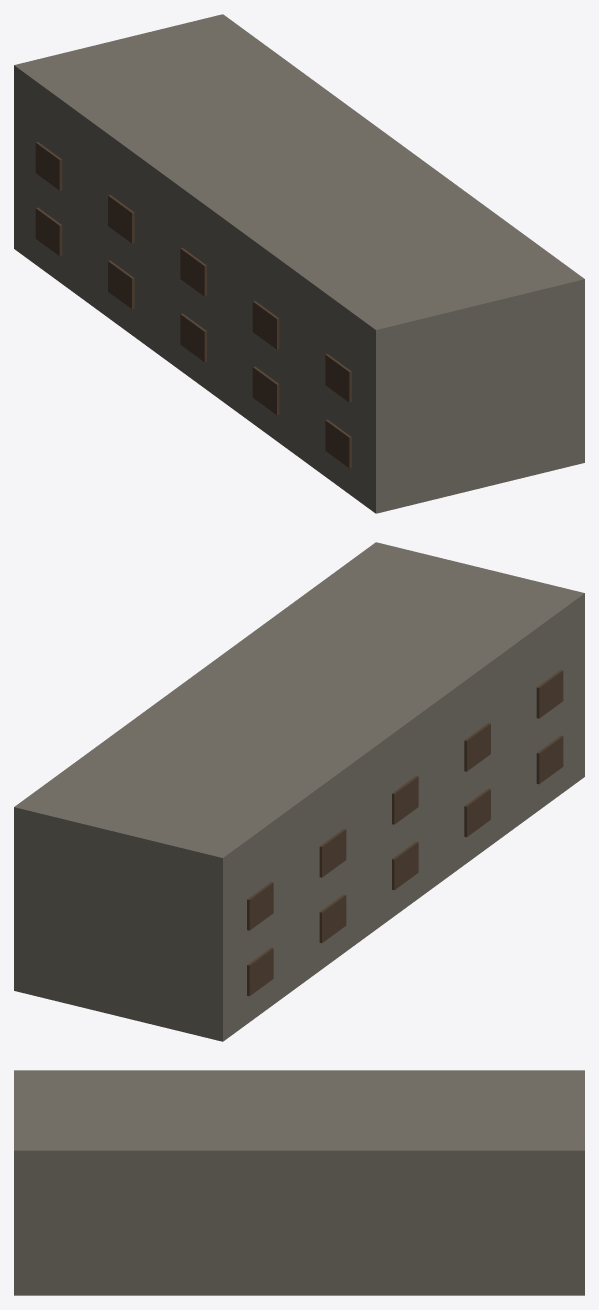
Rendered from theme-outpost-4.glb.
3 renders of one model, top to bottom at view 1: azimuth 30°, elevation 25°; view 2: azimuth 150°, elevation 25°; view 3: azimuth 270°, elevation 25°, orthographic. The views are drawn at different scales.
Parts seen in each view (by area): view 1: 00_#7a766c, 01_#5a4636_noshadow_r320; view 2: 00_#7a766c, 01_#5a4636_noshadow_r320; view 3: 00_#7a766c.
Part boxes in pixels (x1=…): 00_#7a766c: x1=14, y1=14, x2=584, y2=513; 01_#5a4636_noshadow_r320: x1=35, y1=142, x2=351, y2=468; 00_#7a766c: x1=14, y1=542, x2=584, y2=1041; 01_#5a4636_noshadow_r320: x1=247, y1=670, x2=563, y2=996; 00_#7a766c: x1=14, y1=1070, x2=584, y2=1295.
Size of the model in its own units: 10.12 by 8.4 by 30.
